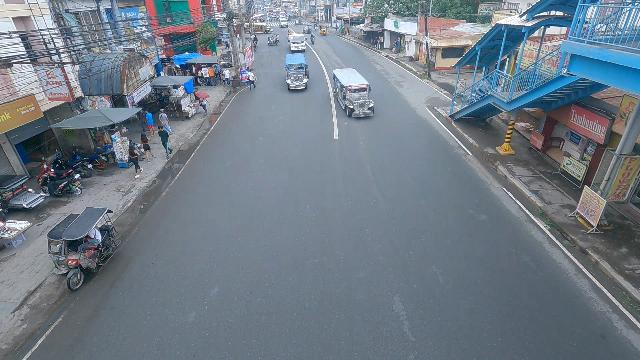jeepney: (332, 66, 375, 122), (282, 52, 309, 92)
